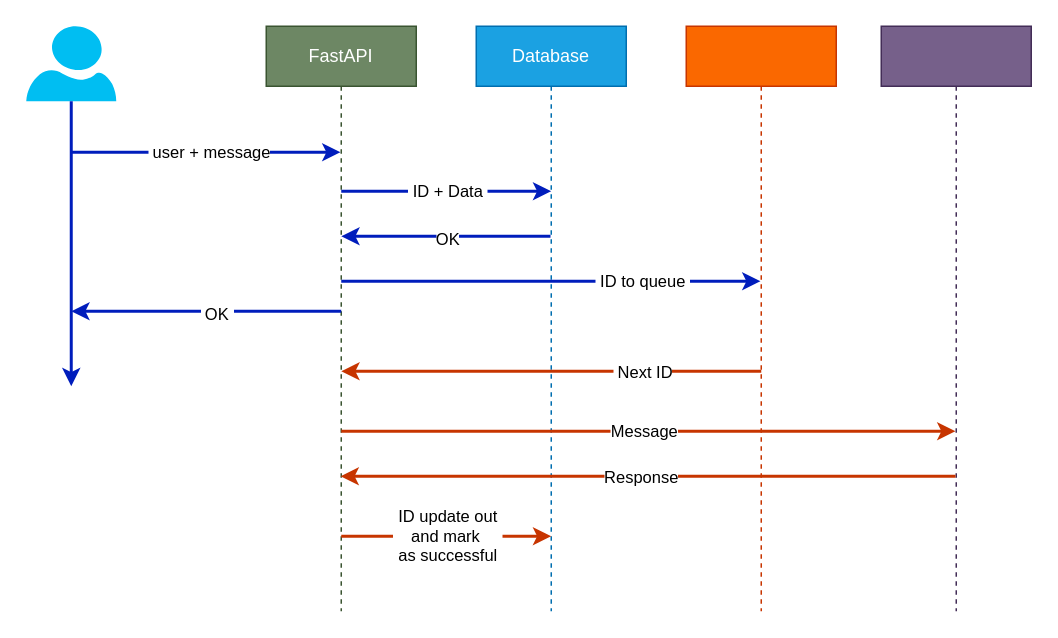
Image size: 1058x638. Some labels were removed from this diagram. Each missing label, with the box of its shape:
Deepseek: (880, 25, 1031, 611)
Pubsub: (685, 25, 836, 611)
